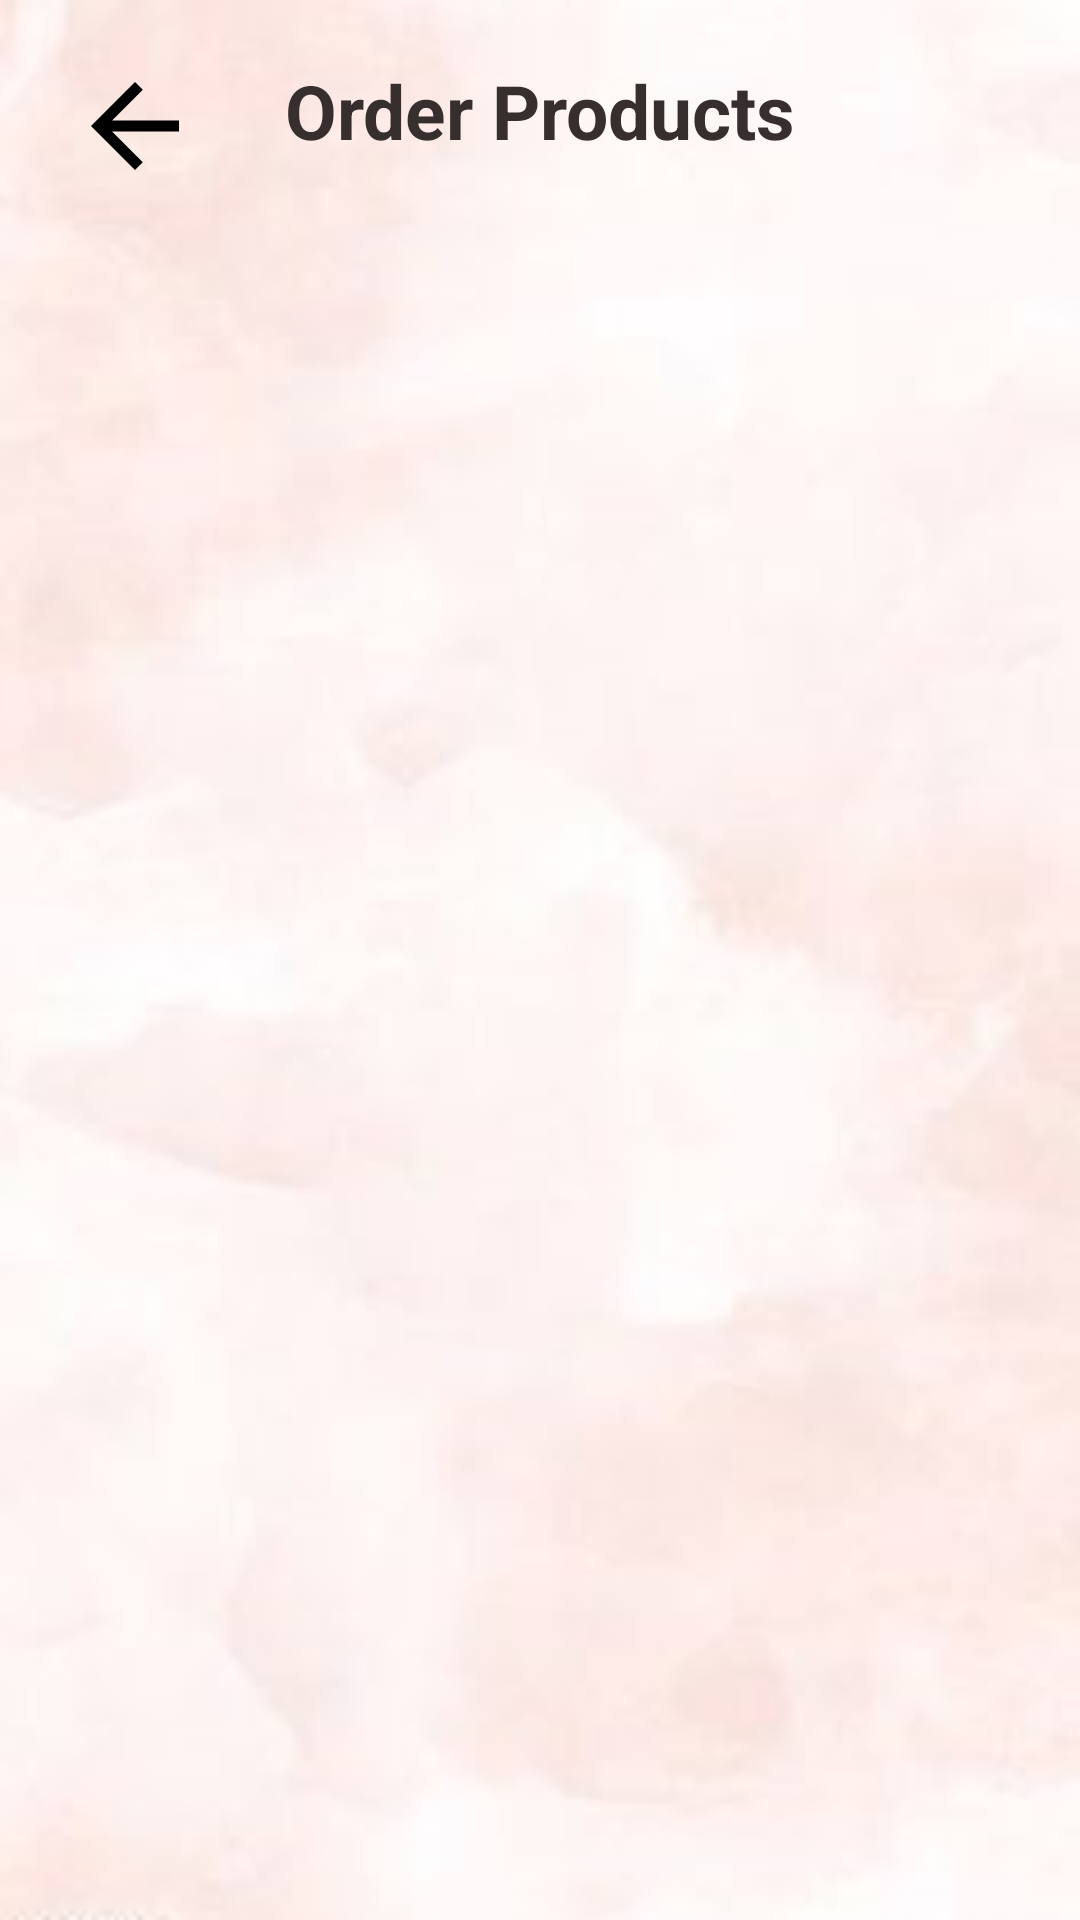

Icon click points for this 1080px x 1920px phone screenshot, format (x=x, y=y):
back: (x=135, y=126)
